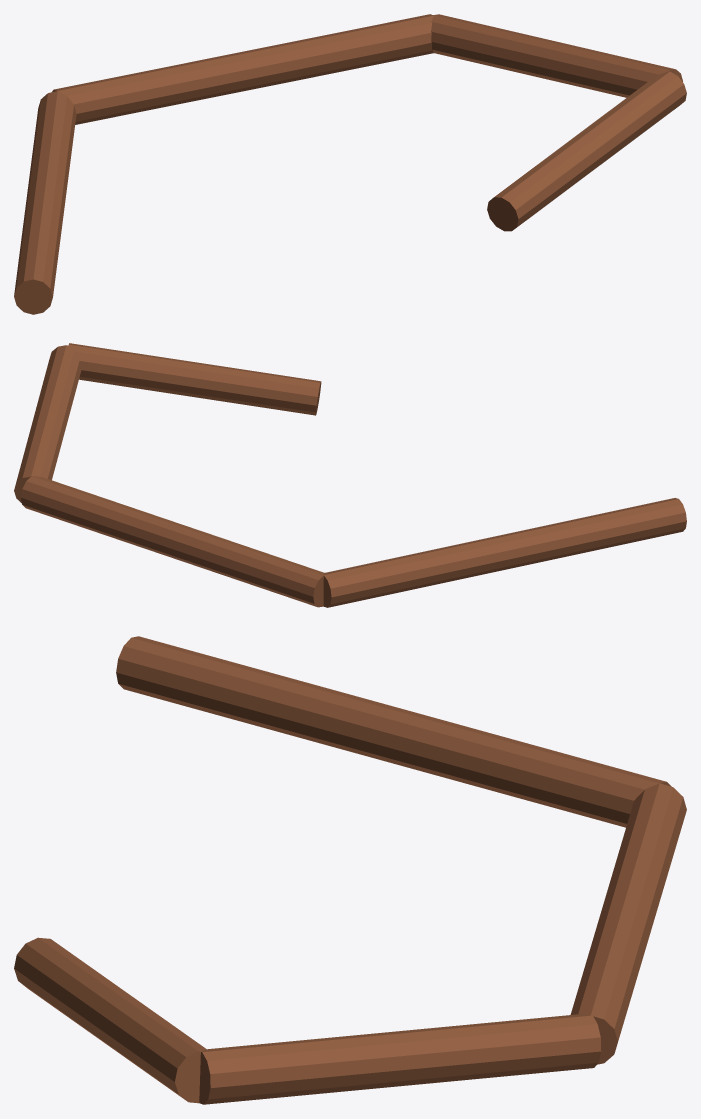
File: Wire_Offcut.glb
3 renders of one model, top to bottom at view 1: azimuth 30°, elevation 25°; view 2: azimuth 150°, elevation 25°; view 3: azimuth 270°, elevation 25°, orthographic. The views are drawn at different scales.
Parts seen in each view (by area): view 1: Litter; view 2: Litter; view 3: Litter.
Part boxes in pixels (<box>): Litter: <box>14,14,686,314</box>; Litter: <box>14,343,686,607</box>; Litter: <box>14,636,686,1104</box>.
Size of the model in its own units: 0.4911 by 0.044 by 0.2929.
